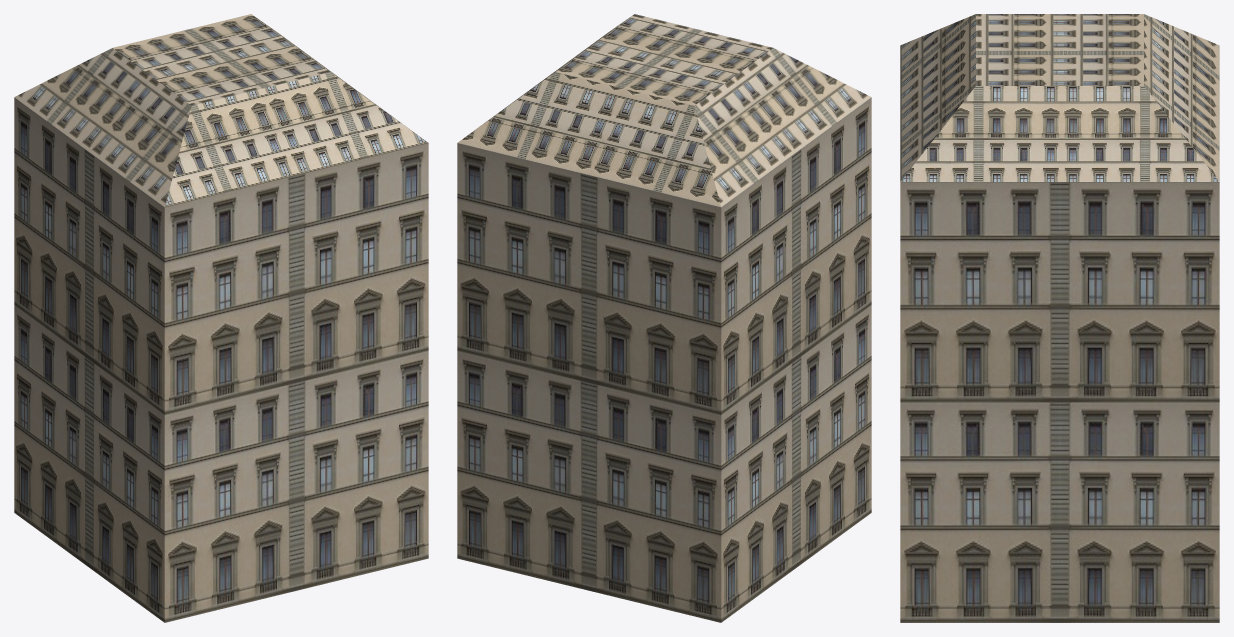
File: bina21332121.fbx
The picture shows the model from 3 angles, left to right: view 1: azimuth 30°, elevation 25°; view 2: azimuth 150°, elevation 25°; view 3: azimuth 270°, elevation 25°; orthographic projection. The views are drawn at different scales.
Visible parts, largest first — view 1: Cube; view 2: Cube; view 3: Cube.
Boxes of the visible parts, x1,y1,x2,y2 form: Cube: (14, 14, 428, 622); Cube: (457, 14, 871, 622); Cube: (900, 14, 1219, 622).
Size of the model in its own units: 289 by 498 by 286.
1 material, 1 textured.
